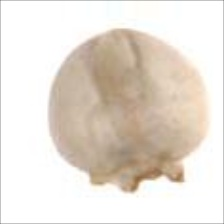L5: (84, 29, 151, 152), (84, 155, 190, 197)
L6: (49, 27, 212, 194)
